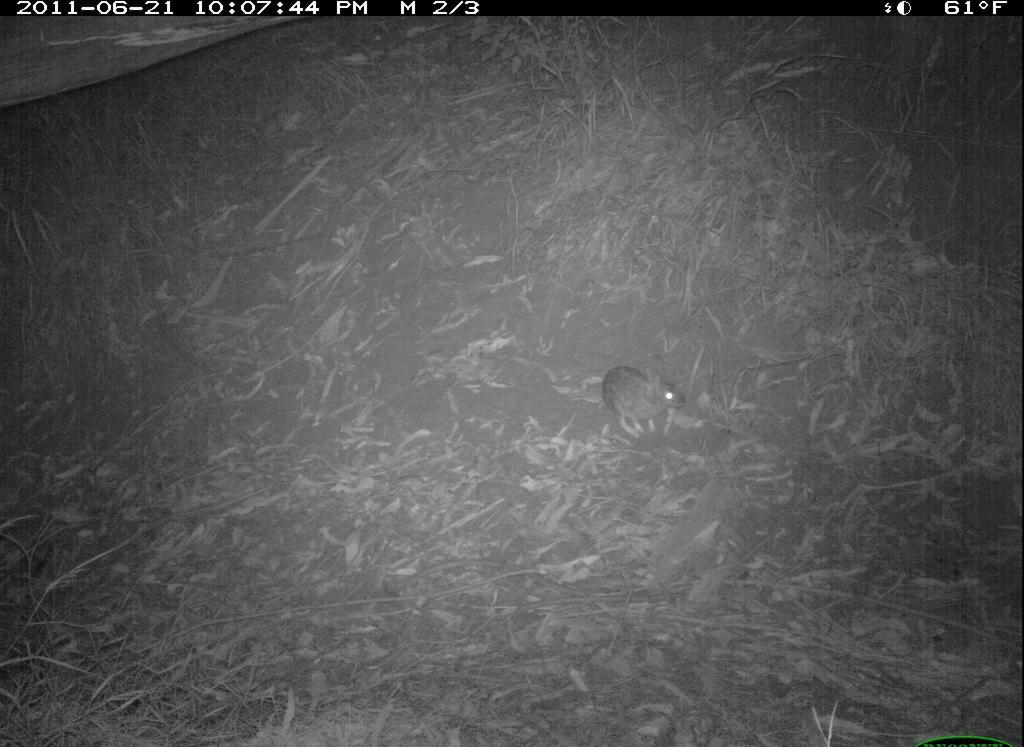rabbit: (584, 350, 702, 441)
